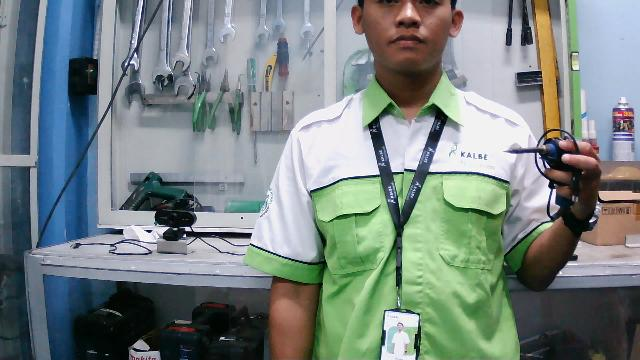solder_electrical: (501, 129, 585, 222)
